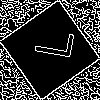L: (25, 25, 74, 61)
